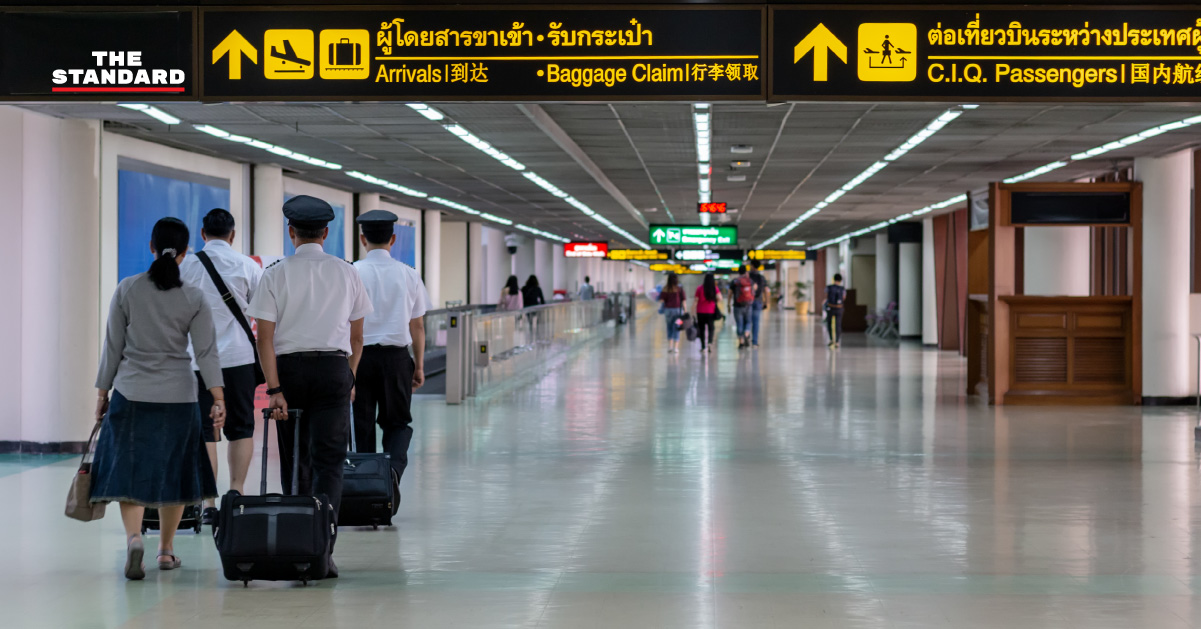bag: (58, 422, 107, 527)
luggage: (209, 403, 344, 599), (329, 435, 403, 533)
people: (100, 217, 201, 584), (262, 192, 345, 566), (336, 184, 426, 486), (191, 197, 258, 504), (656, 267, 687, 354), (728, 263, 756, 355), (693, 269, 722, 355), (824, 268, 847, 345)
